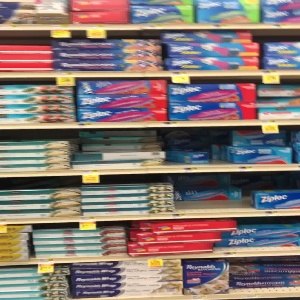void: (171, 174, 253, 210), (167, 127, 227, 165)
